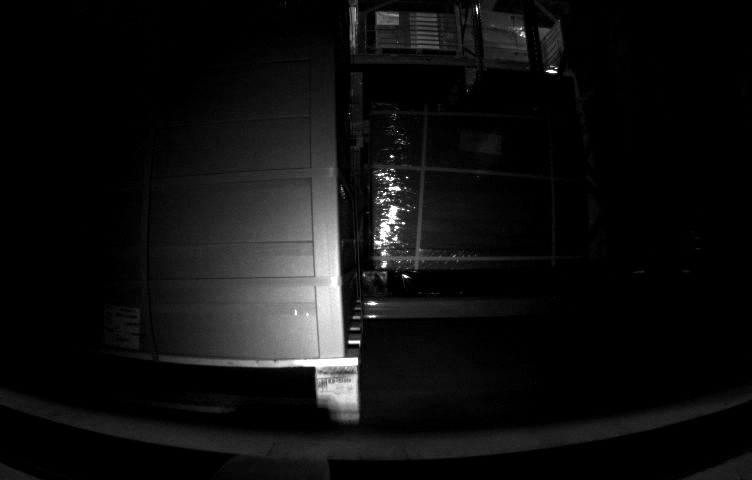True Barcode: (102, 305, 144, 349)
